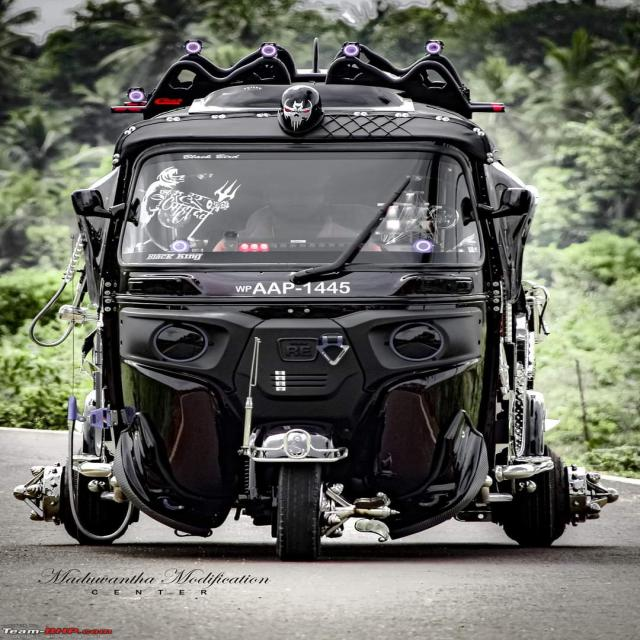autorickshaw: (14, 40, 616, 560)
